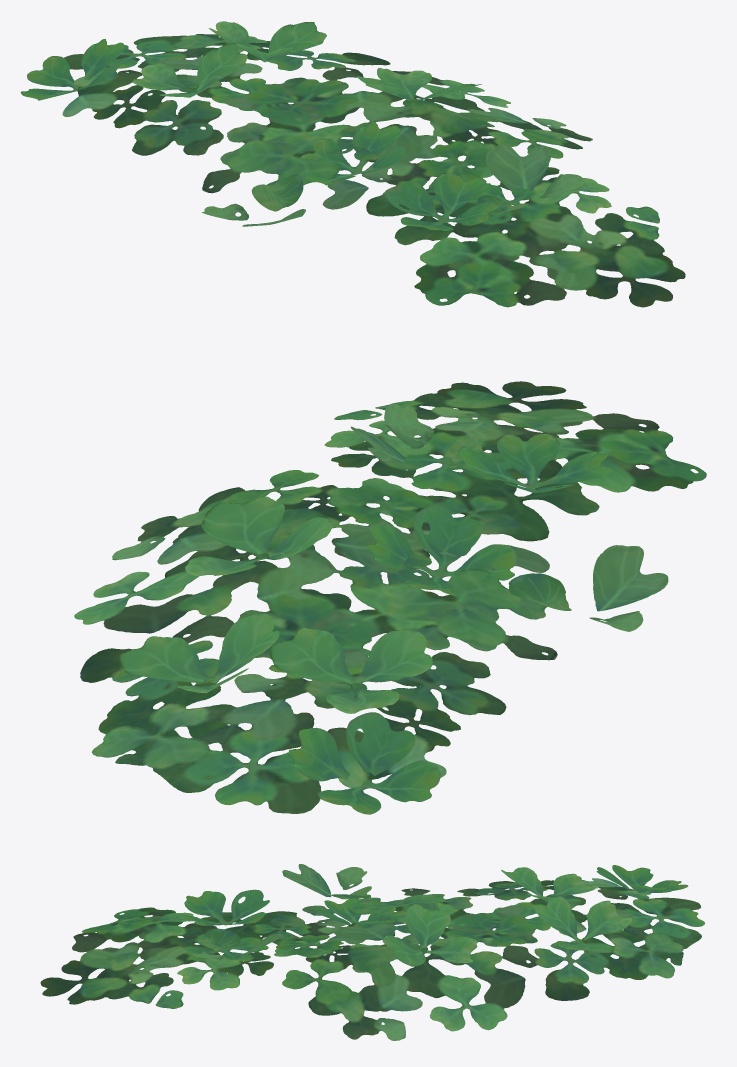
File: SM_Ground_Clovers_B.fbx
The picture shows the model from 3 angles, top to bottom: view 1: azimuth 30°, elevation 25°; view 2: azimuth 150°, elevation 25°; view 3: azimuth 270°, elevation 25°; orthographic projection. The views are drawn at different scales.
Parts seen in each view (by area): view 1: SM_Ground_Clovers_B_LOD0; view 2: SM_Ground_Clovers_B_LOD0; view 3: SM_Ground_Clovers_B_LOD0.
Boxes of the visible parts, x1,y1,x2,y2 form: SM_Ground_Clovers_B_LOD0: (20,21,685,307); SM_Ground_Clovers_B_LOD0: (74,381,706,814); SM_Ground_Clovers_B_LOD0: (40,864,704,1040).
Bounding box in the file's own units: 50.03 × 87.89 × 10.02.
Materials: 1 (1 with a texture image).
